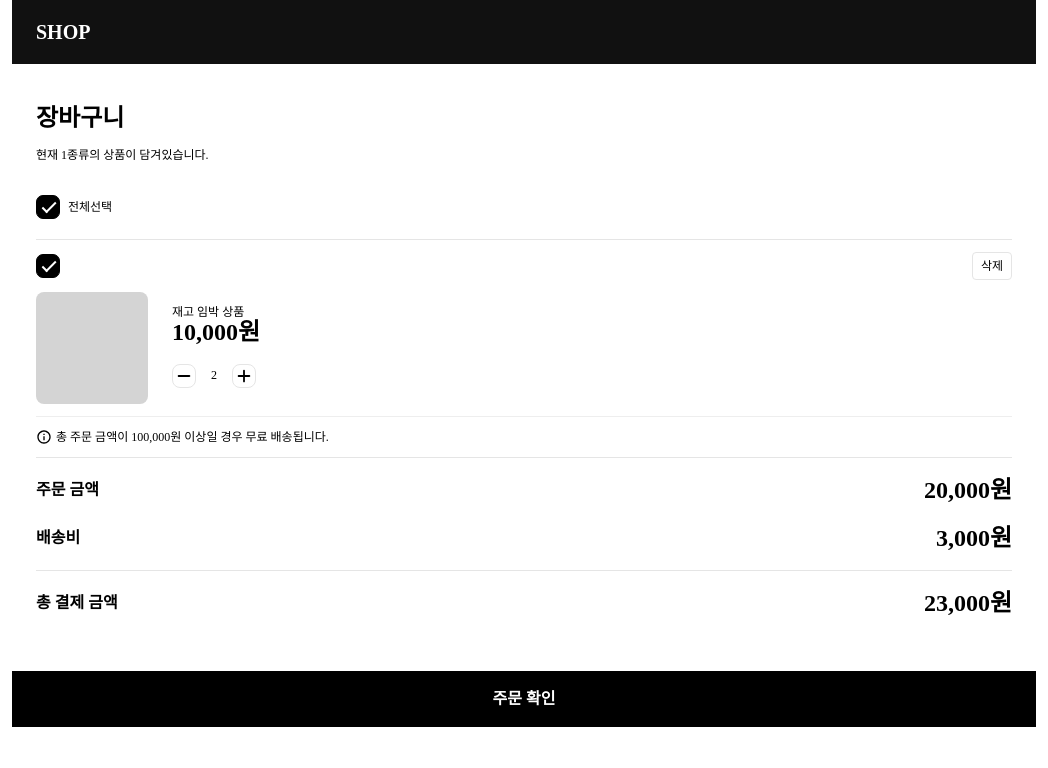
Test: 수량 변경 › 수량 증가로 재고가 얼마 남지 않으면 안내 메시지가 나타나고, 다시 감소하면 사라진다
Expected: the text "재고 임박 상품" is shown, [172,304,244,318]
Expected: the text "재고가 얼마 남지 않았습니다" is not shown
Click the 3rd button. click: (244, 376)
box: [232,364,256,388]
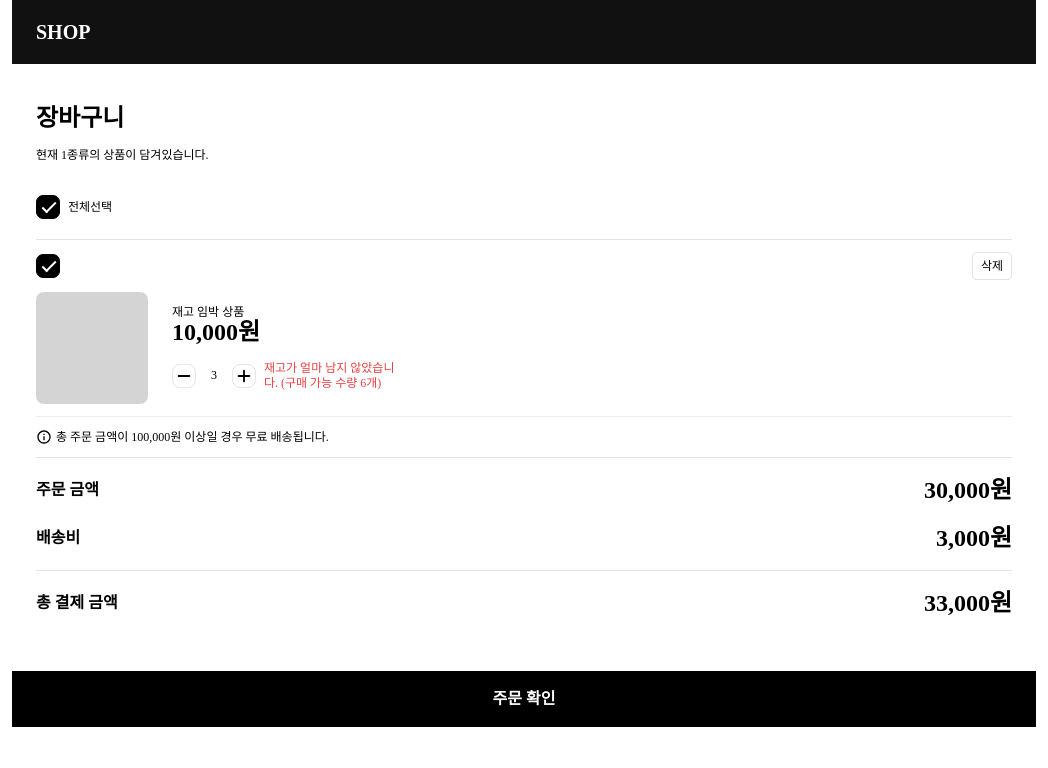
Expected: the text "3" is shown, [211,368,217,382]
Click the 3rd button. click: (244, 376)
box: [232,364,256,388]
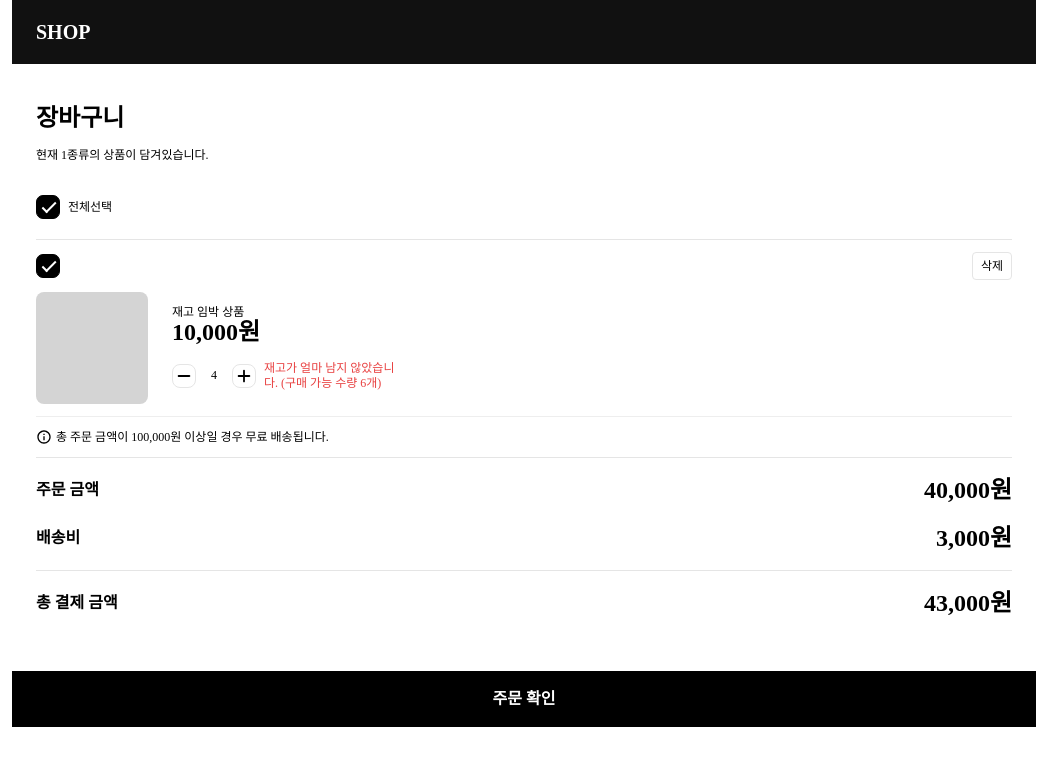
Expected: the text "재고가 얼마 남지 않았습니다. (구매 가능 수량 6개)" is shown, [264,360,404,390]
Expected: the text "4" is shown, [211,368,217,382]
Click the 2nd button. click: (184, 376)
box: [172,364,196,388]
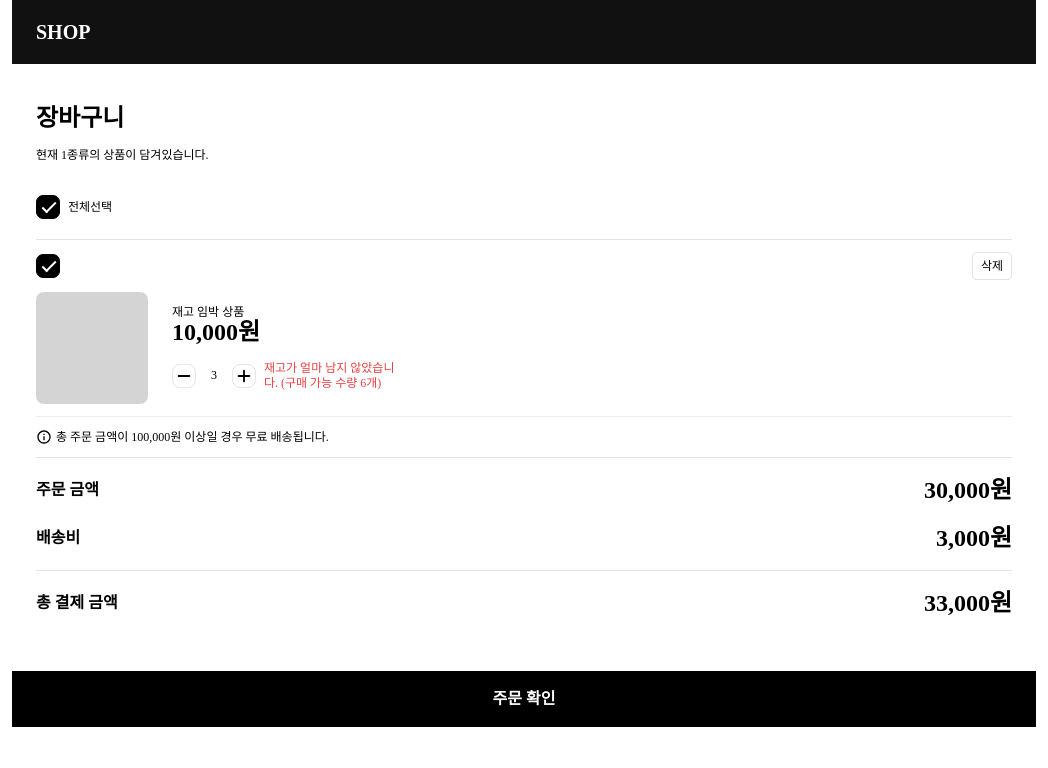
Expected: the text "3" is shown, [211,368,217,382]
Click the 2nd button. click: (184, 376)
box: [172,364,196,388]
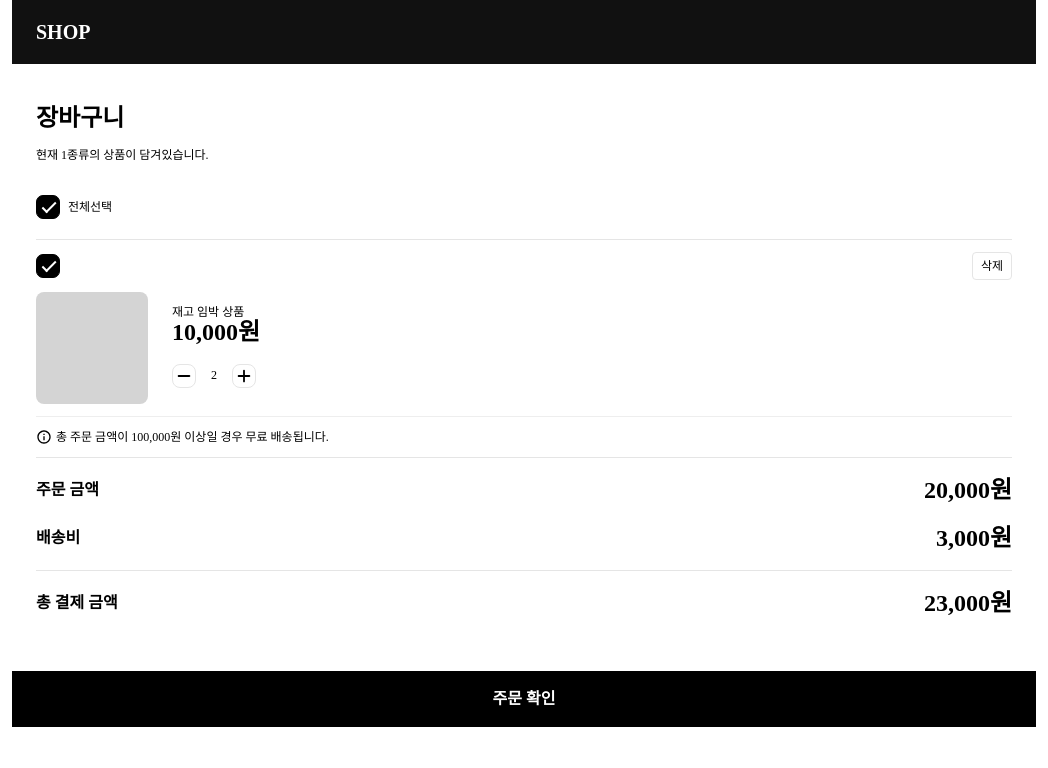
Expected: the text "2" is shown, [211,368,217,382]
Expected: the text "재고가 얼마 남지 않았습니다" is gone
